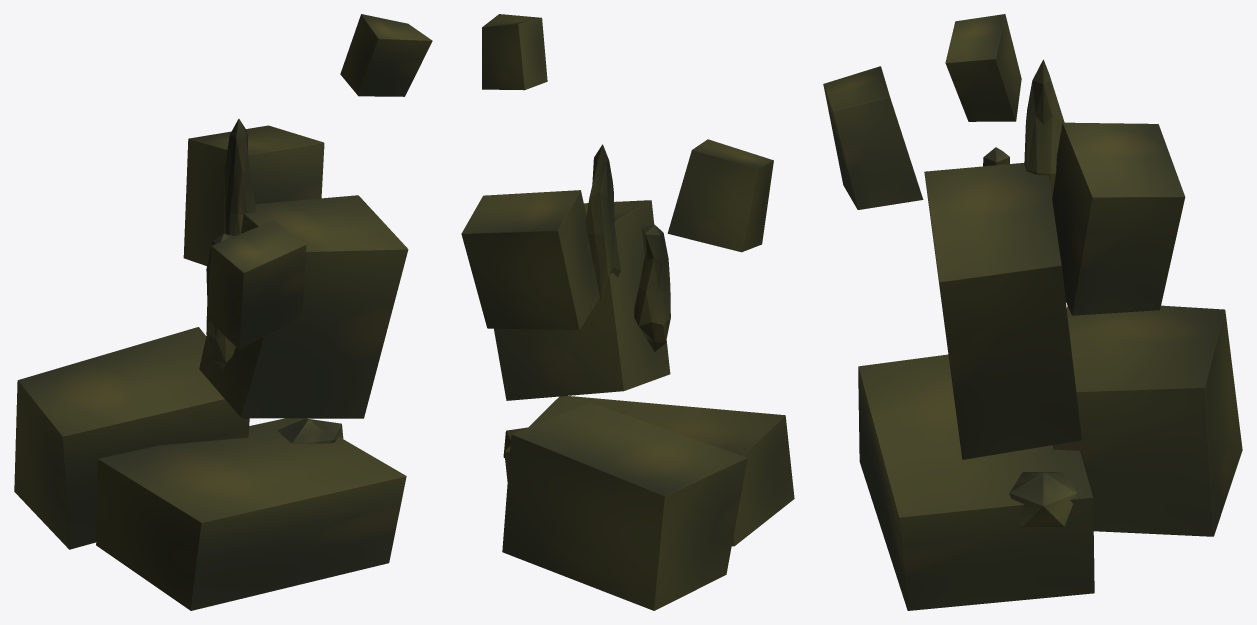
File: planet_ridge_v2.glb
3 renders of one model, left to right at view 1: azimuth 30°, elevation 25°; view 2: azimuth 150°, elevation 25°; view 3: azimuth 270°, elevation 25°, orthographic. The views are drawn at different scales.
Visible parts, largest first — view 1: RidgeSlab_0, RidgeSlab_2, RidgeSlab_1, RidgeSlab_3, RidgeSlab_4, RidgeSlab_5, RidgeTooth_1, RidgeScree_4, RidgeTooth_0; view 2: RidgeSlab_1, RidgeSlab_3, RidgeSlab_2, RidgeSlab_0, RidgeSlab_4, RidgeSlab_5, RidgeTooth_0, RidgeTooth_1; view 3: RidgeSlab_0, RidgeSlab_2, RidgeSlab_1, RidgeSlab_3, RidgeSlab_4, RidgeSlab_5, RidgeTooth_1, RidgeScree_4.
Boxes of the visible parts, x1,y1,x2,y2 form: RidgeSlab_0: (96, 418, 406, 610); RidgeSlab_2: (199, 195, 408, 418); RidgeSlab_1: (14, 327, 249, 549); RidgeSlab_3: (183, 125, 324, 265); RidgeSlab_4: (206, 220, 306, 349); RidgeSlab_5: (340, 14, 432, 96); RidgeTooth_1: (224, 119, 255, 235); RidgeScree_4: (277, 418, 343, 443); RidgeTooth_0: (206, 233, 235, 369); RidgeSlab_1: (502, 402, 747, 610); RidgeSlab_3: (461, 190, 599, 329); RidgeSlab_2: (494, 200, 670, 400); RidgeSlab_0: (504, 396, 794, 546); RidgeSlab_4: (667, 139, 773, 252); RidgeSlab_5: (482, 14, 547, 90); RidgeTooth_0: (634, 224, 670, 351); RidgeTooth_1: (585, 144, 620, 299); RidgeSlab_0: (858, 354, 1094, 610); RidgeSlab_2: (924, 163, 1081, 459); RidgeSlab_1: (1052, 305, 1242, 536); RidgeSlab_3: (1052, 122, 1185, 315); RidgeSlab_4: (823, 66, 923, 209); RidgeSlab_5: (945, 14, 1021, 121); RidgeTooth_1: (1024, 59, 1064, 198); RidgeScree_4: (1009, 472, 1077, 526).
Bounding box in the file's own units: 54.29 × 84.21 × 52.9.
1 material, 1 textured.
